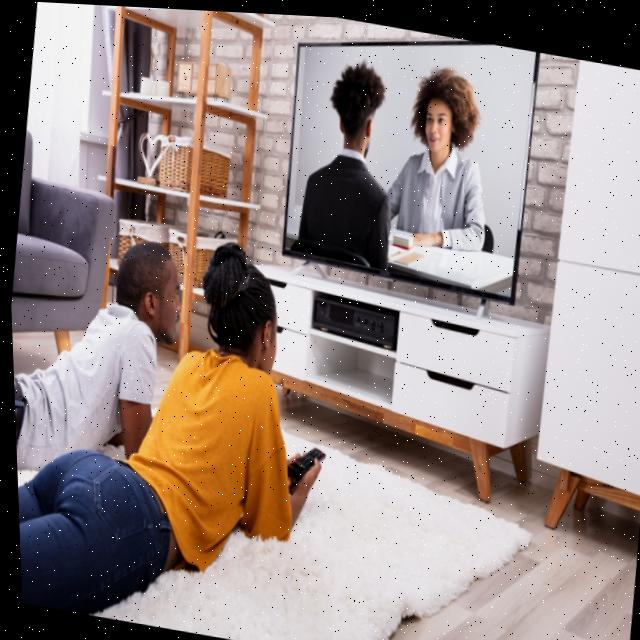tv-person: (0, 0, 567, 640)
